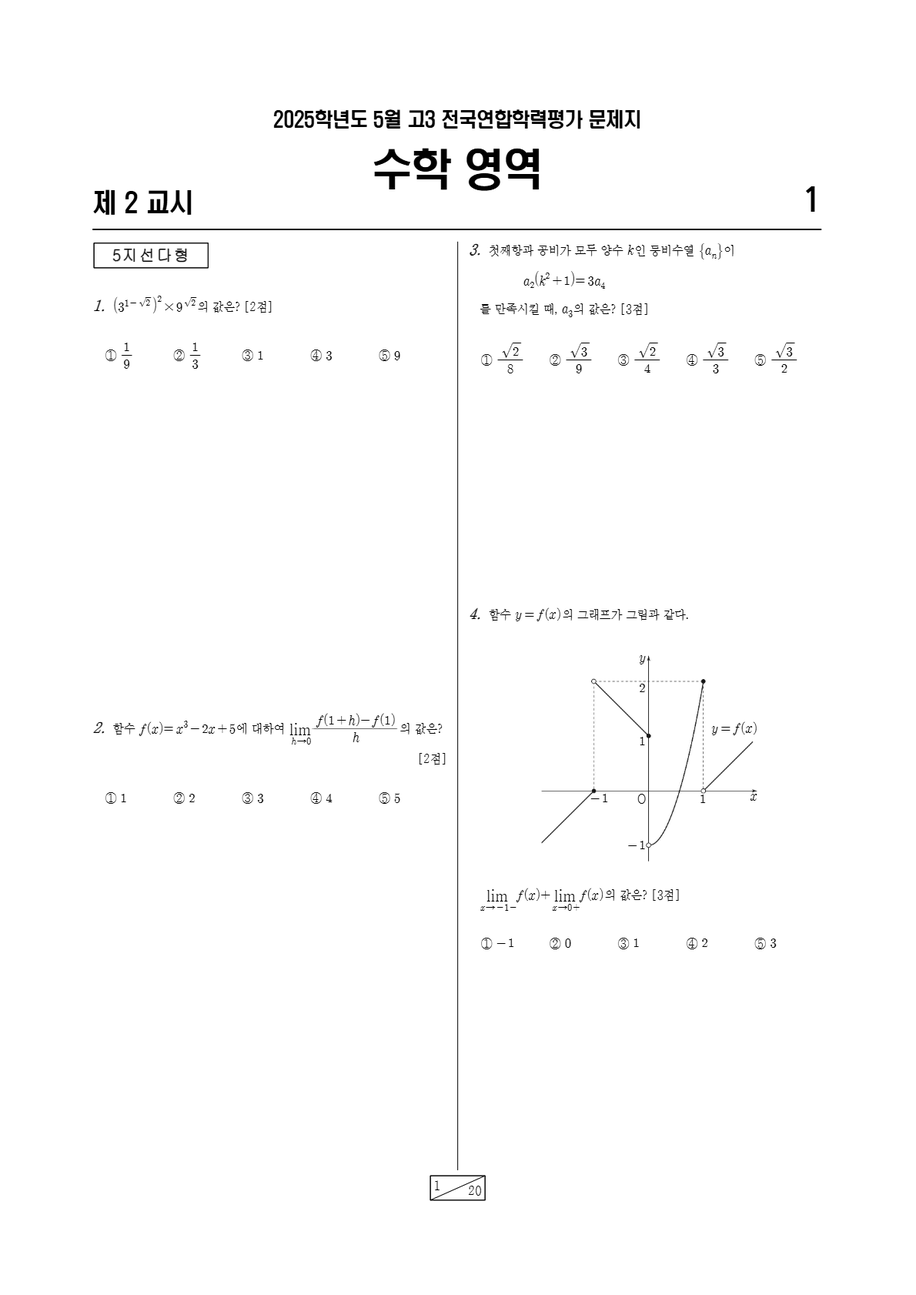opt_1: (104, 347, 117, 362), (480, 937, 492, 949), (105, 791, 116, 804), (481, 353, 492, 366)
opt_2: (173, 348, 185, 361), (173, 791, 184, 804), (550, 353, 560, 366), (550, 937, 560, 949)
opt_3: (617, 353, 629, 366), (242, 348, 253, 361), (618, 937, 629, 949), (242, 791, 252, 803)
opt_4: (309, 791, 322, 804), (686, 352, 697, 366), (310, 348, 321, 361), (686, 937, 697, 949)
opt_5: (754, 353, 766, 366), (754, 937, 766, 949), (379, 791, 390, 804), (379, 348, 389, 361)
